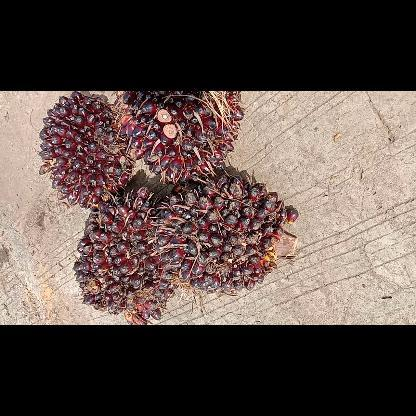TBS mentah: (150, 171, 300, 299), (70, 186, 180, 324), (110, 91, 246, 187), (35, 90, 137, 212)
